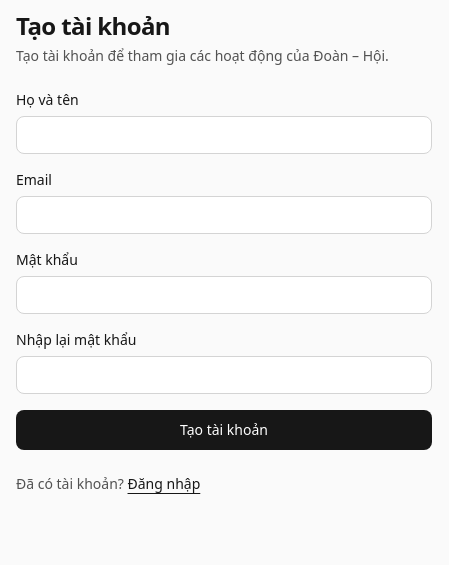
RegisterPage › surfaces email_taken in Vietnamese
This screenshot has width=449, height=565.
Type "Nguyễn Lan" into the field labelled "Họ và tên". click: [224, 135]
box: [16,116,432,154]
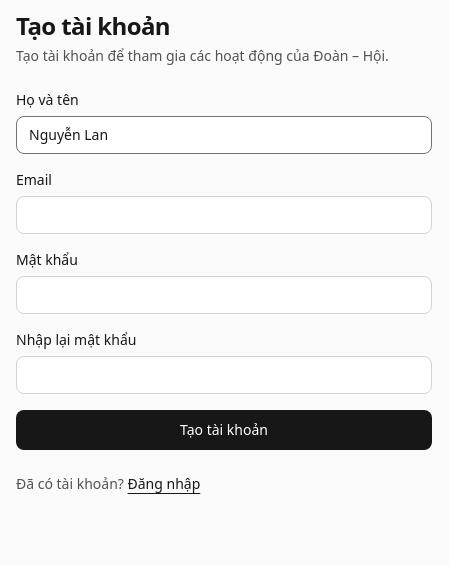
Type "lan@example.com" into the field labelled "Email". click: [224, 215]
box: [16,196,432,234]
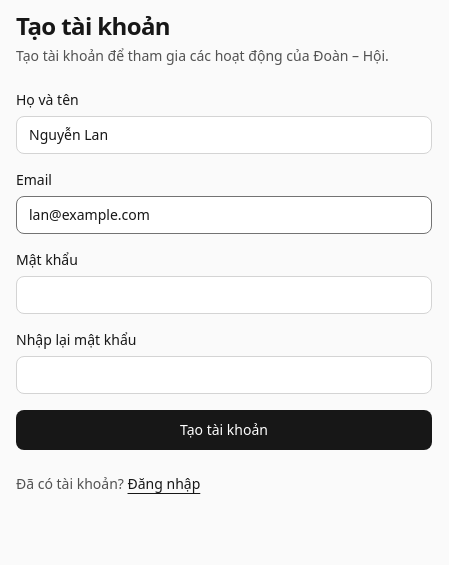
Type "mậtkhẩu123" into the password field labelled "Mật khẩu". click: [224, 295]
box: [16,276,432,314]
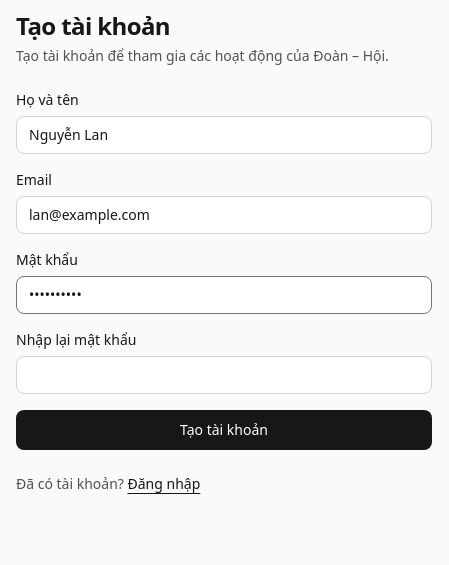
Type "mậtkhẩu123" into the password field labelled "Nhập lại mật khẩu". click: [224, 375]
box: [16,356,432,394]
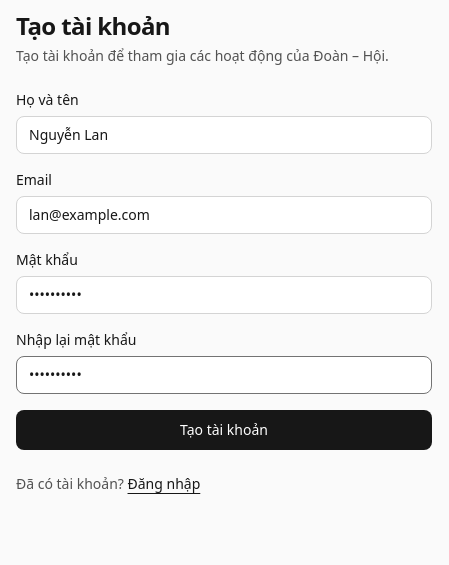
Click the button "Tạo tài khoản". click: [224, 430]
box: [16,410,432,450]
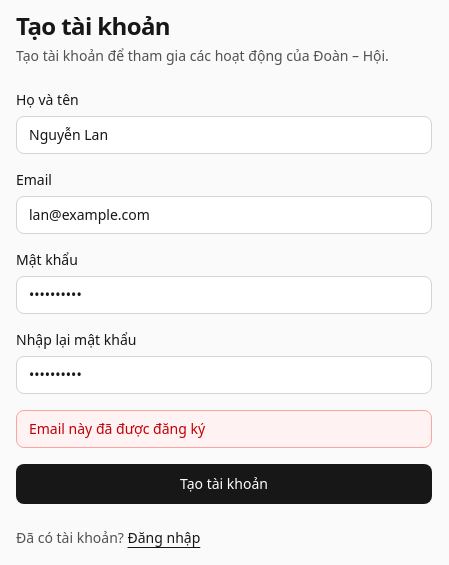
Check: the message reads "Email này đã được đăng ký", box [29,419,205,438]
